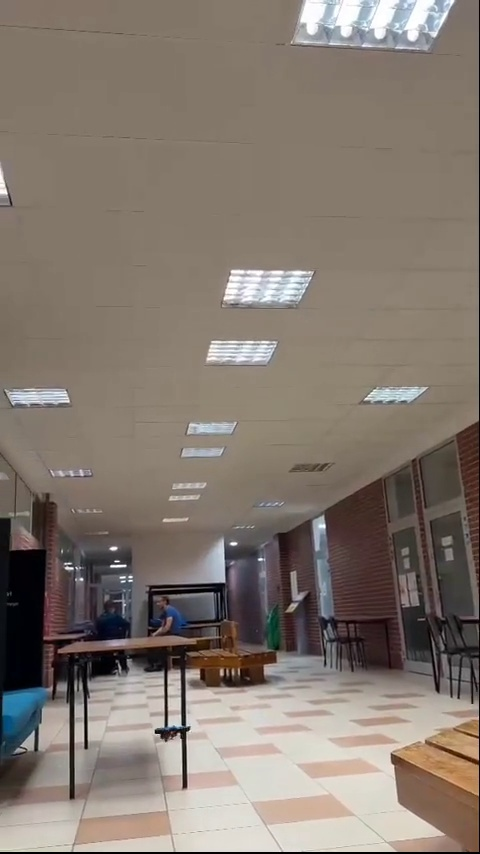drone: (156, 727, 190, 742)
no vest: (93, 595, 131, 639), (153, 596, 185, 639)
